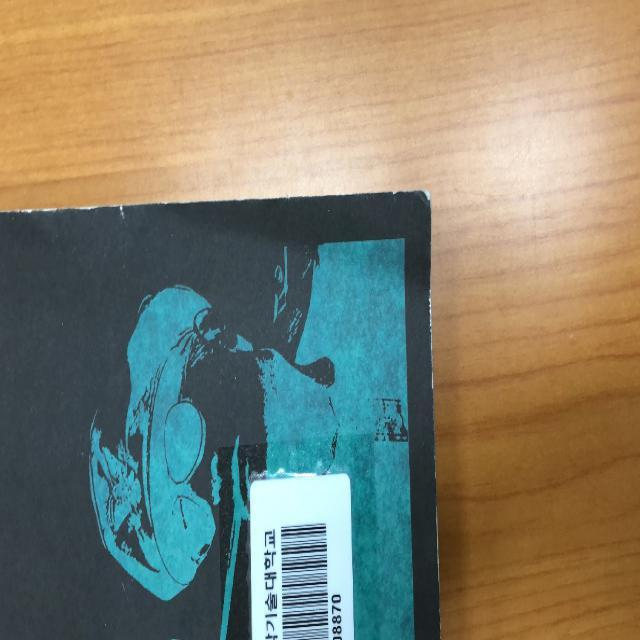Ripped: (110, 198, 135, 227)
Wornout: (413, 281, 440, 398), (1, 194, 103, 223), (422, 499, 448, 596), (233, 188, 297, 219), (389, 180, 438, 209), (152, 193, 199, 222)
